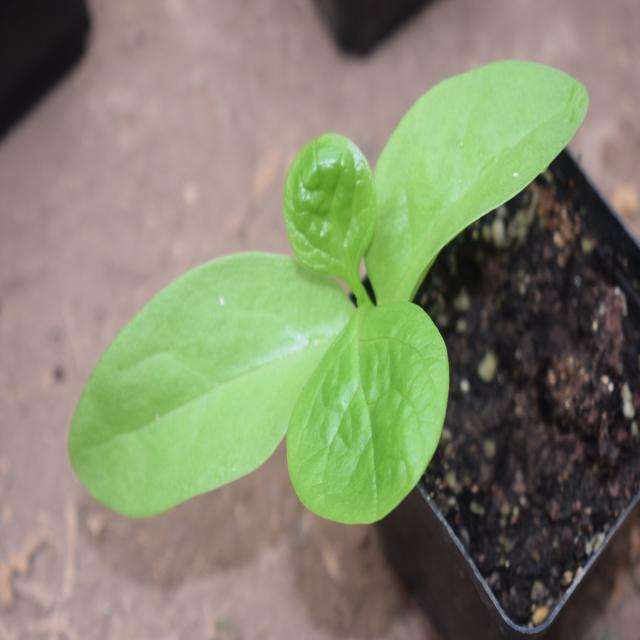Ceylon spinach: (93, 61, 568, 511)
